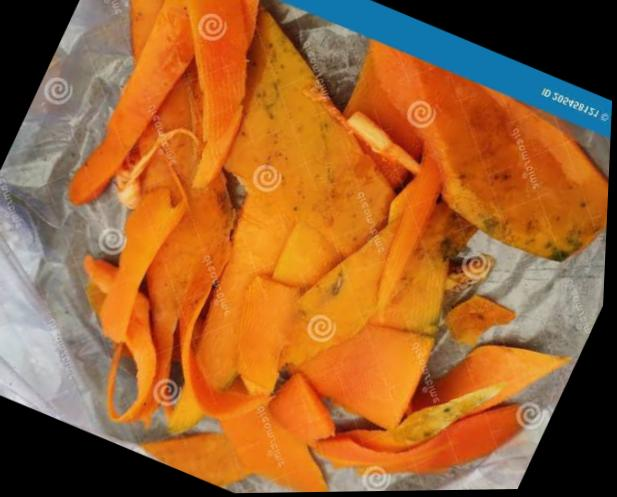organic: (46, 0, 461, 447), (345, 41, 607, 259), (70, 0, 258, 204), (305, 345, 564, 474)
